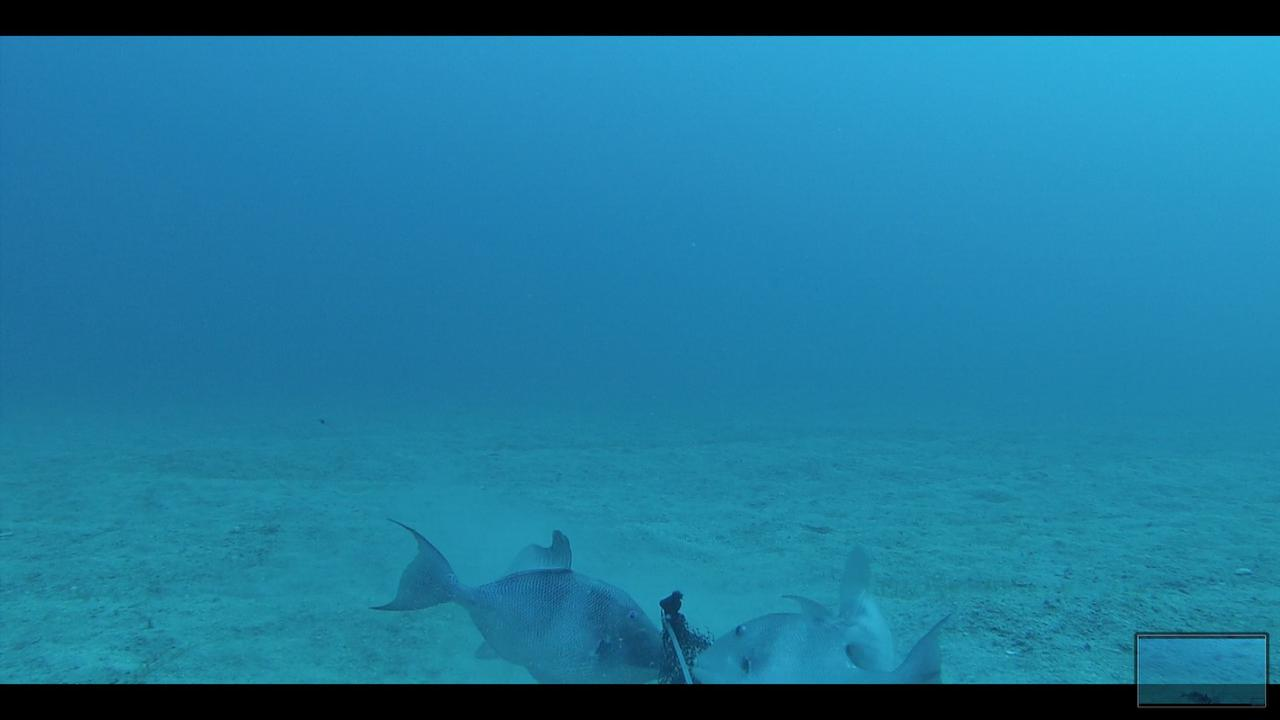balistes: (364, 514, 673, 681), (690, 592, 952, 682)
